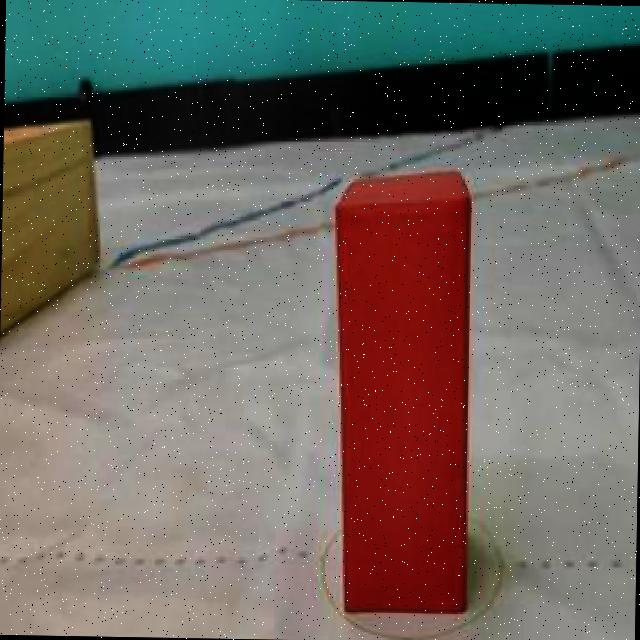redbox: (326, 170, 474, 616)
